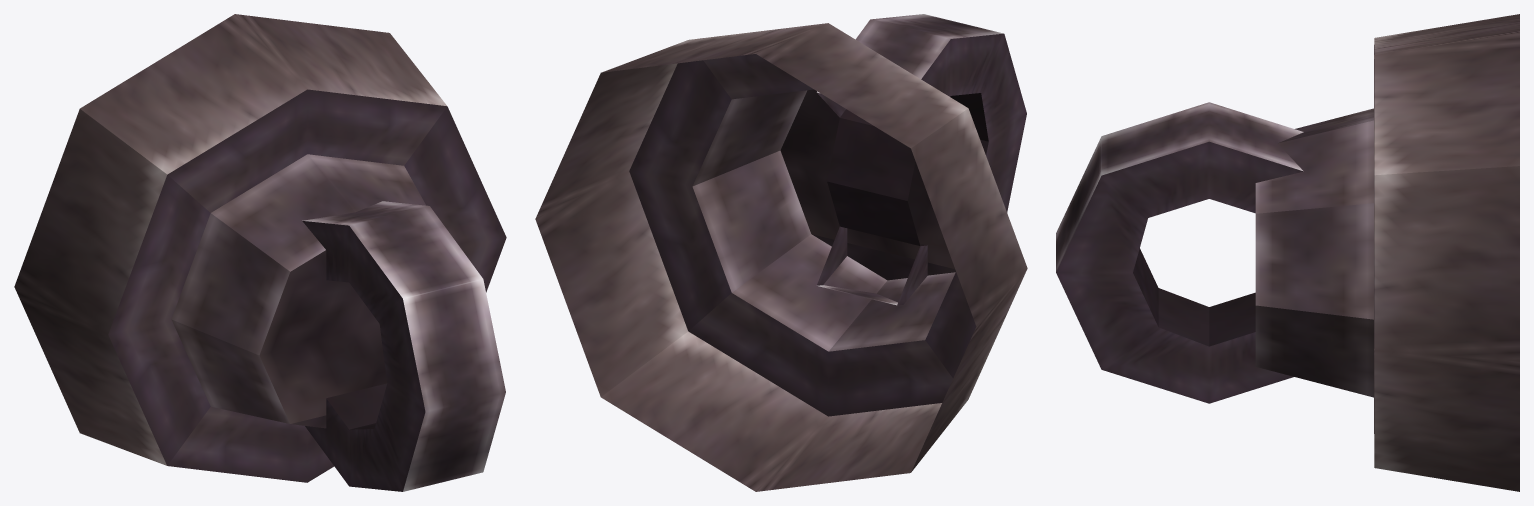
Rendered from Scene_Rongyan_Diaohuan.FBX.
The picture shows the model from 3 angles, left to right: view 1: azimuth 30°, elevation 25°; view 2: azimuth 150°, elevation 25°; view 3: azimuth 270°, elevation 25°; orthographic projection.
Visible parts, largest first — view 1: Scene_Rongyan_Diaohuan; view 2: Scene_Rongyan_Diaohuan; view 3: Scene_Rongyan_Diaohuan.
Part boxes in pixels (<box>): Scene_Rongyan_Diaohuan: <box>14,14,506,491</box>; Scene_Rongyan_Diaohuan: <box>535,14,1027,491</box>; Scene_Rongyan_Diaohuan: <box>1056,14,1519,491</box>.
Bounding box in the file's own units: 1.02 × 0.964 × 0.921.
